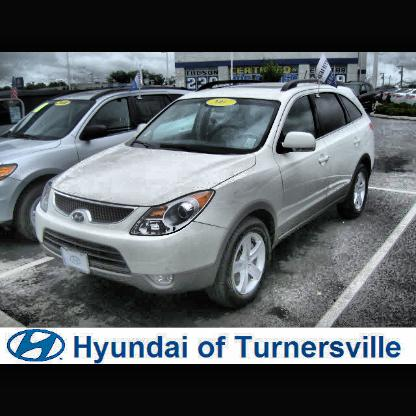Hyundai Veracruz SUV 2012: (36, 81, 376, 313)
